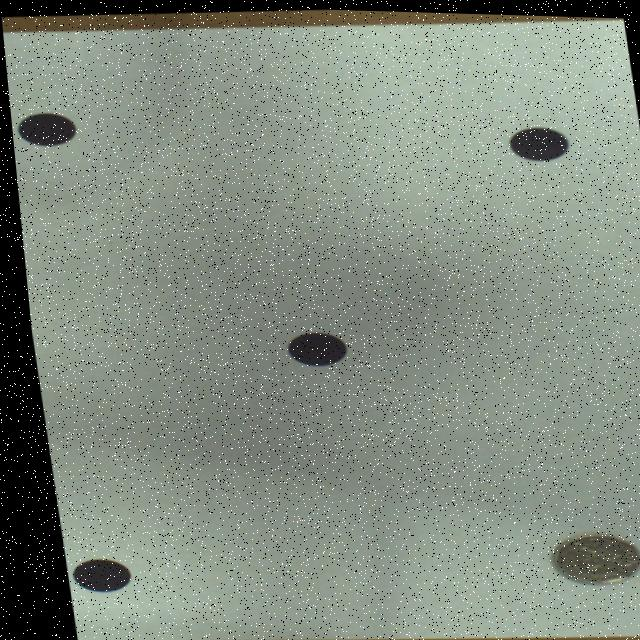space: (281, 330, 341, 364), (61, 558, 120, 591), (15, 112, 73, 145), (508, 124, 565, 156)
tail5bath: (542, 530, 630, 580)
